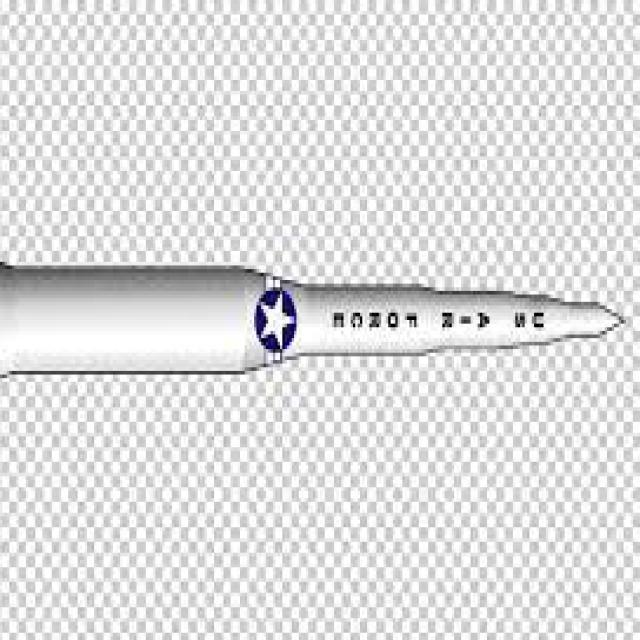missile: (6, 255, 631, 378)
